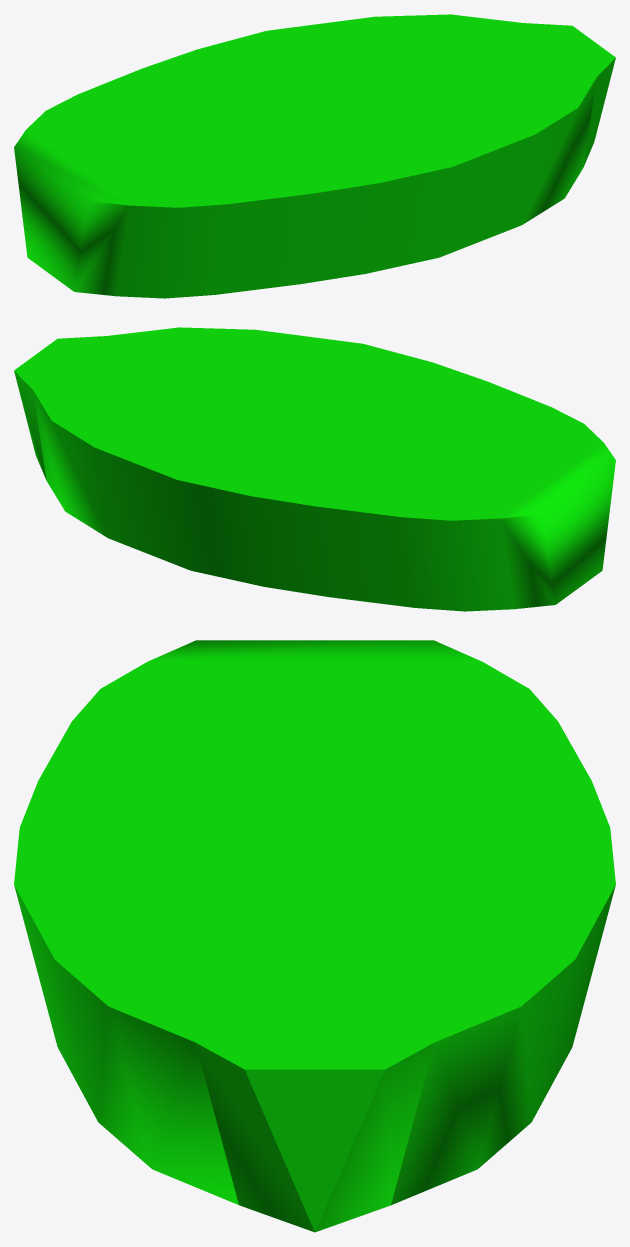
The model's file is Ship_Collider.fbx.
3 views of the same model, one above another, from view 1: azimuth 30°, elevation 25°; view 2: azimuth 150°, elevation 25°; view 3: azimuth 270°, elevation 25° (orthographic). The views are drawn at different scales.
Visible parts, largest first — view 1: Ship_Collider; view 2: Ship_Collider; view 3: Ship_Collider.
Boxes of the visible parts, <box> form: Ship_Collider: <box>14,14,615,298</box>; Ship_Collider: <box>14,327,615,611</box>; Ship_Collider: <box>14,640,615,1232</box>.
Bounding box in the file's own units: 18.79 × 3.33 × 11.14.
